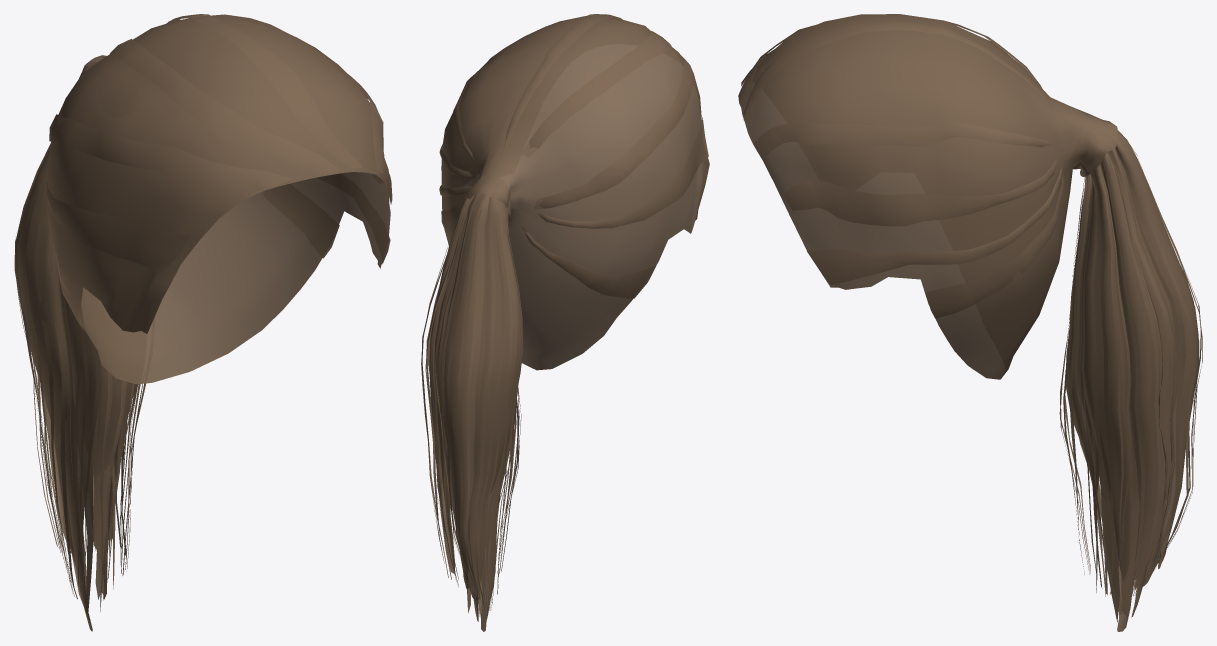
File: ponytail01.glb
The picture shows the model from 3 angles, left to right: view 1: azimuth 30°, elevation 25°; view 2: azimuth 150°, elevation 25°; view 3: azimuth 270°, elevation 25°; orthographic projection. The views are drawn at different scales.
Parts seen in each view (by area): view 1: ponytail01; view 2: ponytail01; view 3: ponytail01.
Part boxes in pixels (x1,y1,x2,y2): ponytail01: (14, 14, 392, 631); ponytail01: (421, 14, 709, 631); ponytail01: (738, 14, 1202, 631).
Bounding box in the file's own units: 0.1453 × 0.3449 × 0.2371.
